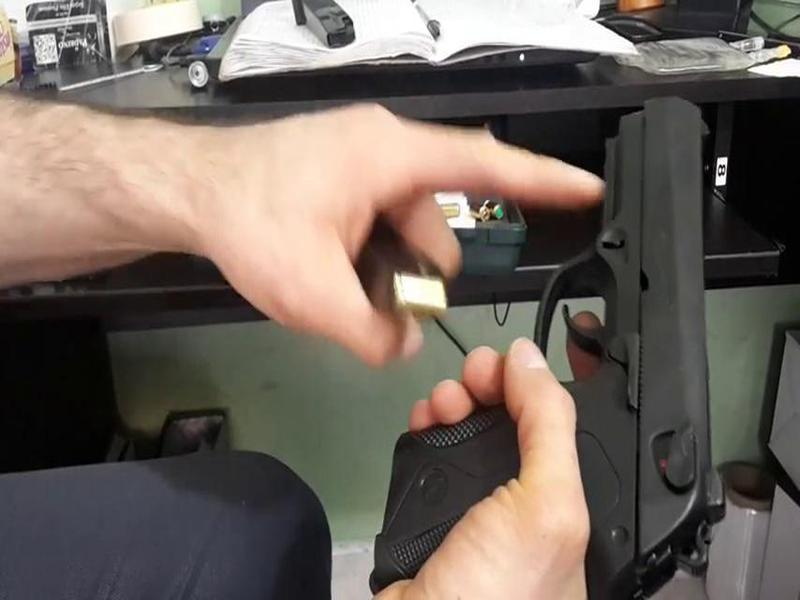Pistola: (437, 82, 734, 600)
